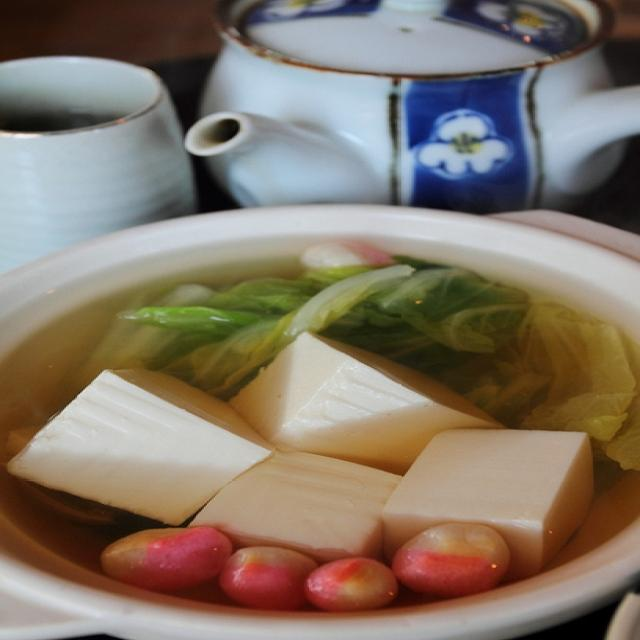豆腐料理: (9, 240, 634, 602)
